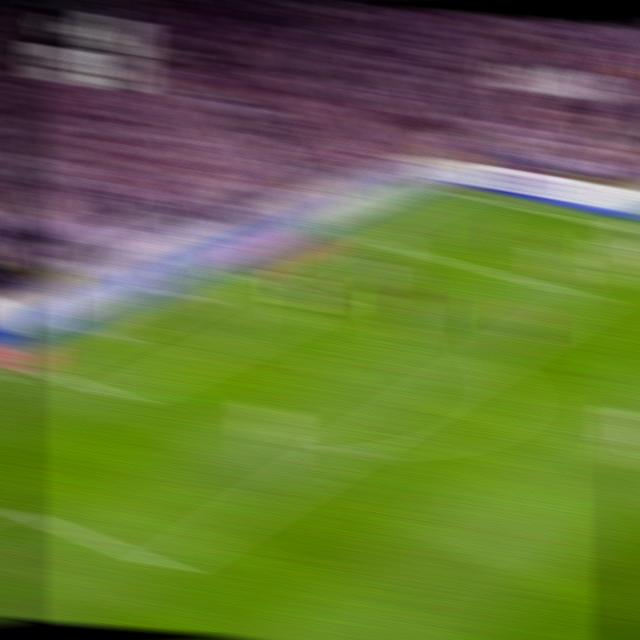bigarea_bottom_inner: (145, 546, 184, 584)
bigarea_top_inner: (575, 285, 609, 309)
bigarea_top_outter: (337, 223, 371, 245)
bottom_arc_area_intersection: (326, 432, 365, 466)
corner: (436, 182, 471, 200)
smallarea_bottom_inner: (104, 383, 140, 411)
smallarea_bottom_outter: (17, 355, 51, 378)
smallarea_top_inner: (312, 286, 346, 311)
smallarea_top_outter: (239, 267, 271, 285)
top_arc_area_intersection: (474, 345, 509, 371)
